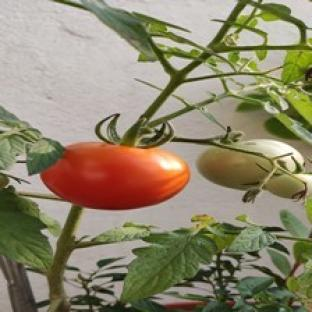Tomato: (41, 143, 189, 210), (230, 140, 303, 172), (267, 173, 311, 199), (0, 173, 9, 189)
